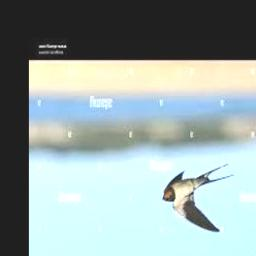Swallow: (163, 165, 233, 233)
